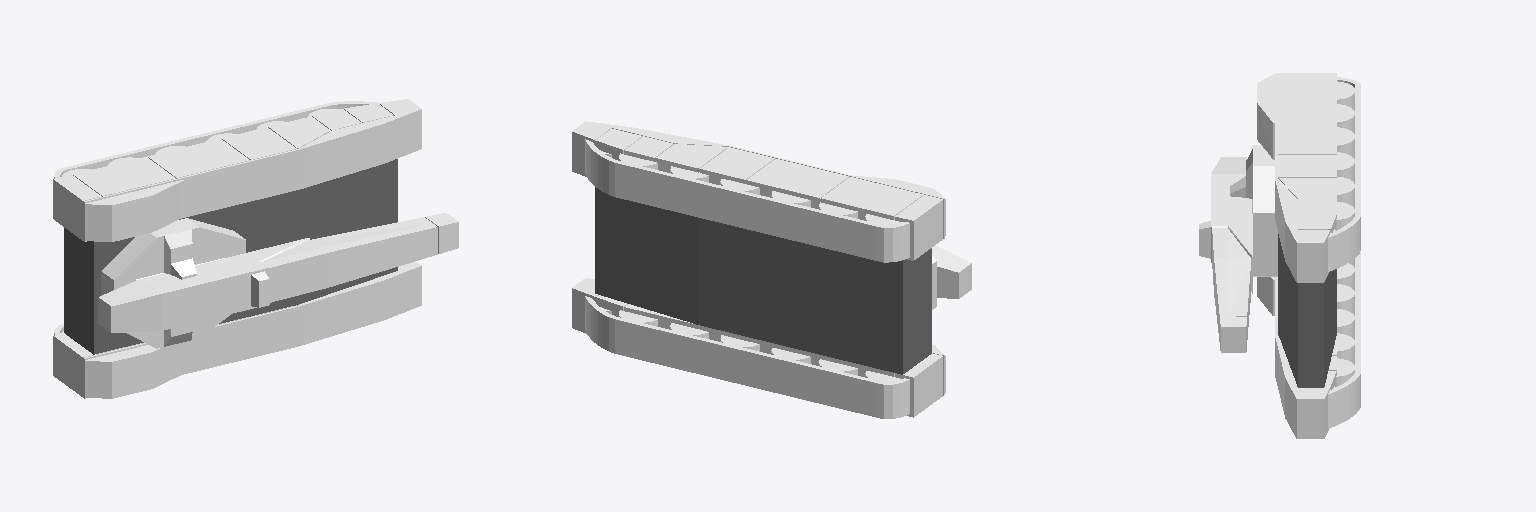
Rendered from Grizzly.obj.
3 renders of one model, left to right at view 1: azimuth 30°, elevation 25°; view 2: azimuth 150°, elevation 25°; view 3: azimuth 270°, elevation 25°, orthographic.
Visible parts, largest first — view 1: Armoured_Skirt_L, Turret, Armoured_Skirt_R, Glacis_Plate, Track_L; view 2: Glacis_Plate, Armoured_Skirt_L, Track_L, Track_R, Armoured_Skirt_R, Turret; view 3: Armoured_Skirt_L, Turret, Glacis_Plate, Armoured_Skirt_R, Track_L, Track_R.
Boxes of the visible parts, x1=… form: Armoured_Skirt_L: x1=53, y1=99, x2=421, y2=241; Turret: x1=98, y1=213, x2=458, y2=348; Armoured_Skirt_R: x1=53, y1=261, x2=421, y2=398; Glacis_Plate: x1=64, y1=159, x2=397, y2=354; Track_L: x1=54, y1=101, x2=378, y2=178; Glacis_Plate: x1=595, y1=187, x2=931, y2=374; Armoured_Skirt_L: x1=572, y1=121, x2=945, y2=260; Track_L: x1=585, y1=139, x2=909, y2=262; Track_R: x1=585, y1=296, x2=909, y2=418; Armoured_Skirt_R: x1=572, y1=278, x2=945, y2=417; Turret: x1=932, y1=245, x2=971, y2=309; Armoured_Skirt_L: x1=1257, y1=73, x2=1336, y2=282; Turret: x1=1199, y1=145, x2=1277, y2=352; Glacis_Plate: x1=1278, y1=234, x2=1336, y2=387; Armoured_Skirt_R: x1=1257, y1=277, x2=1336, y2=438; Track_L: x1=1328, y1=77, x2=1360, y2=271; Track_R: x1=1328, y1=251, x2=1360, y2=428.
Bounding box in the file's own units: 7.9 × 4.26 × 3.19.